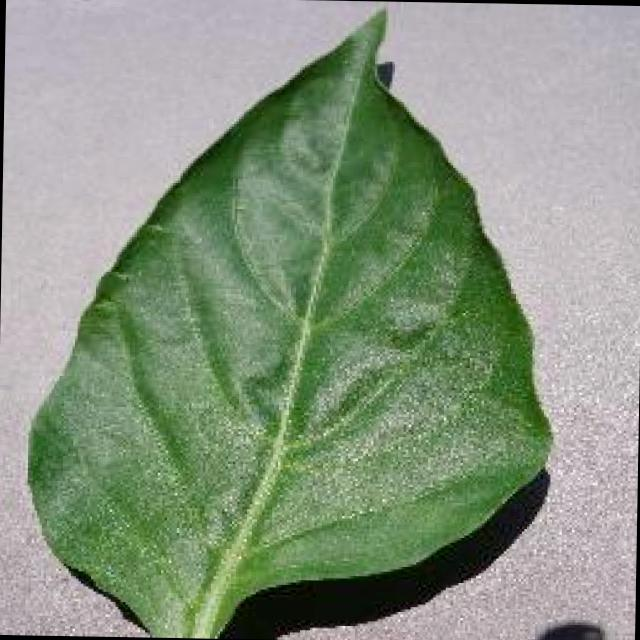Leaf: (236, 130, 469, 456), (96, 280, 190, 487)
